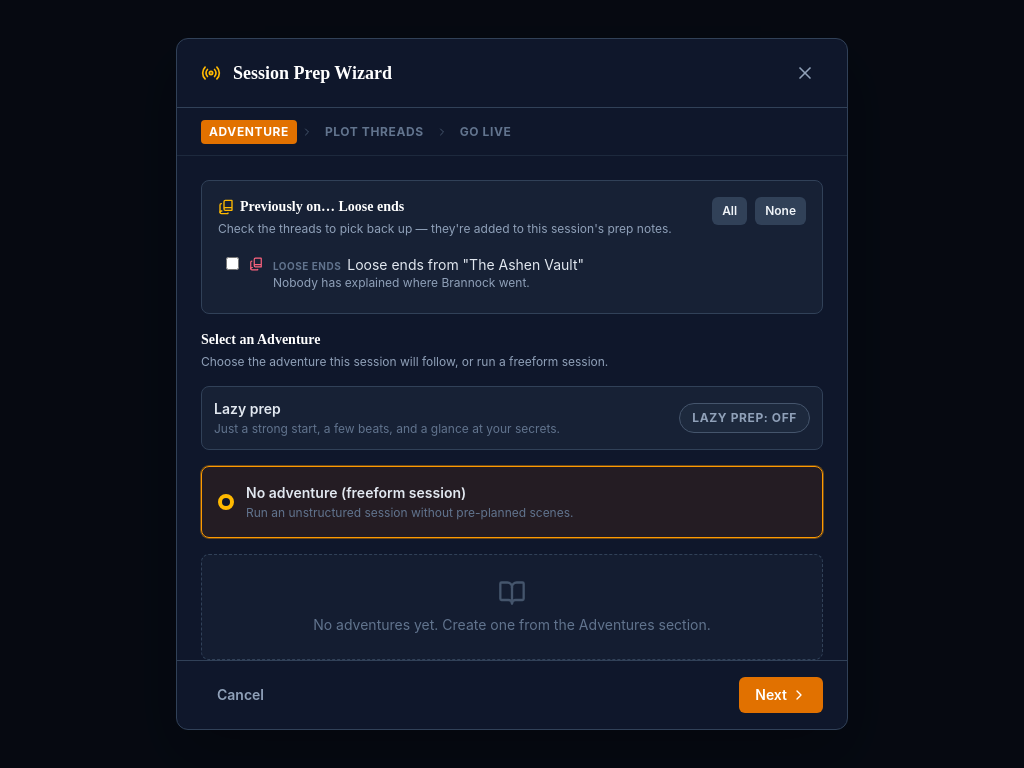
Test: When the draft does not come through › says so inline, politely, without throwing
This screenshot has width=1024, height=768.
Click the button "Lazy prep: off". click: (745, 418)
box: left=679, top=403, right=810, bottom=433
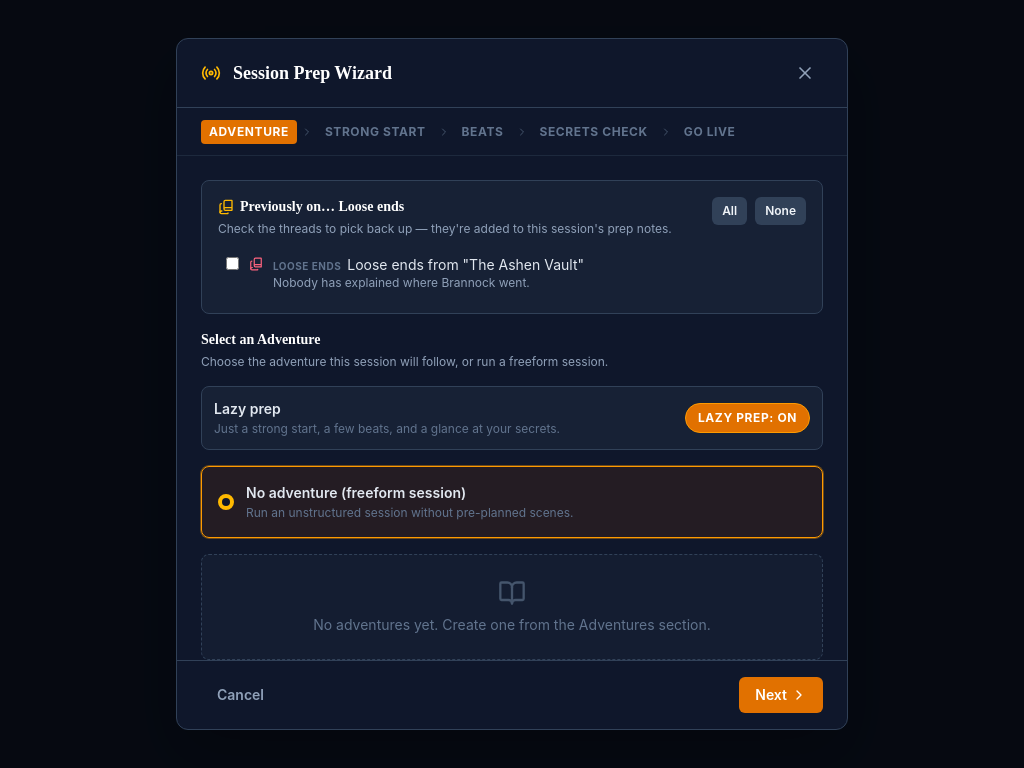
Click the button "Strong Start". click: (375, 132)
box: left=317, top=120, right=434, bottom=144
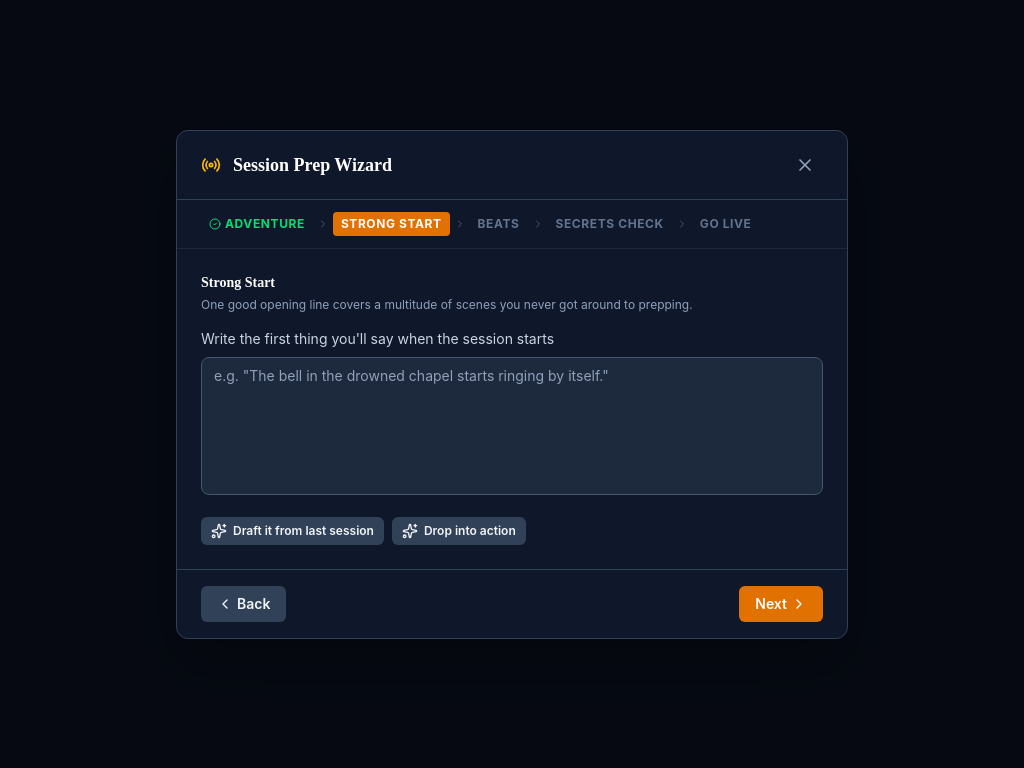
Click the button "Draft it from last session". click: (292, 530)
box: left=201, top=516, right=384, bottom=544
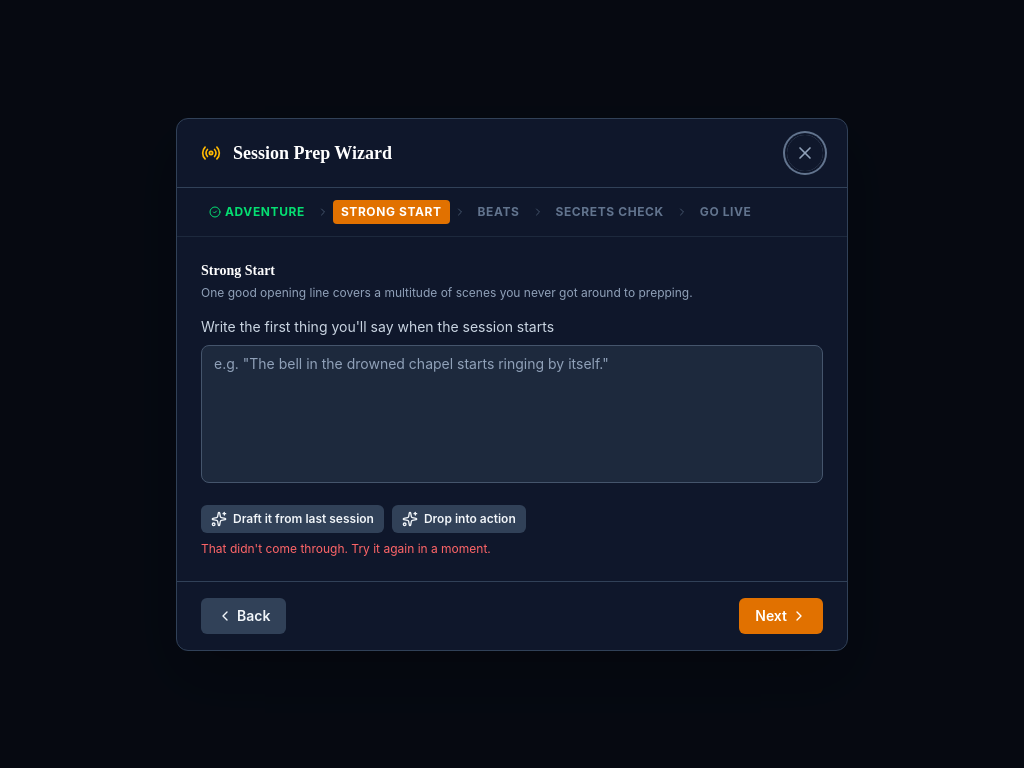
Expected: the text box labelled "Write the first thing you'll say when the session starts" is shown, left=201, top=344, right=823, bottom=482
Expected: the text "That didn't come through. Try it again in a moment." is shown, left=201, top=540, right=491, bottom=556
